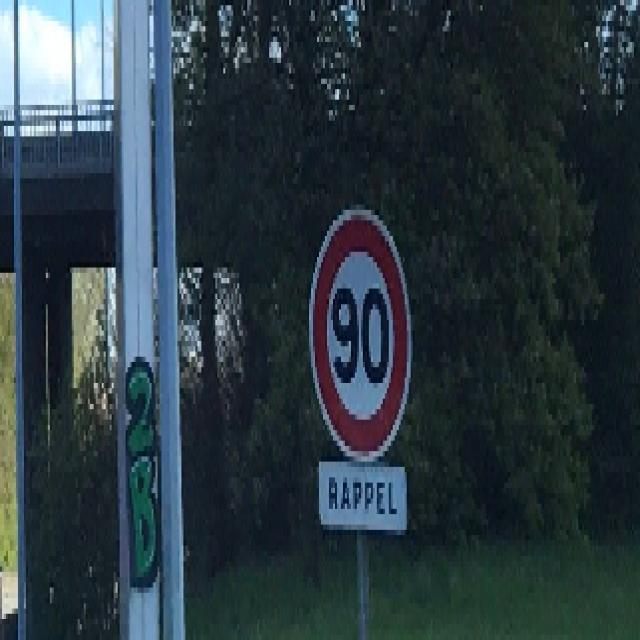speed_90: (308, 202, 414, 466)
